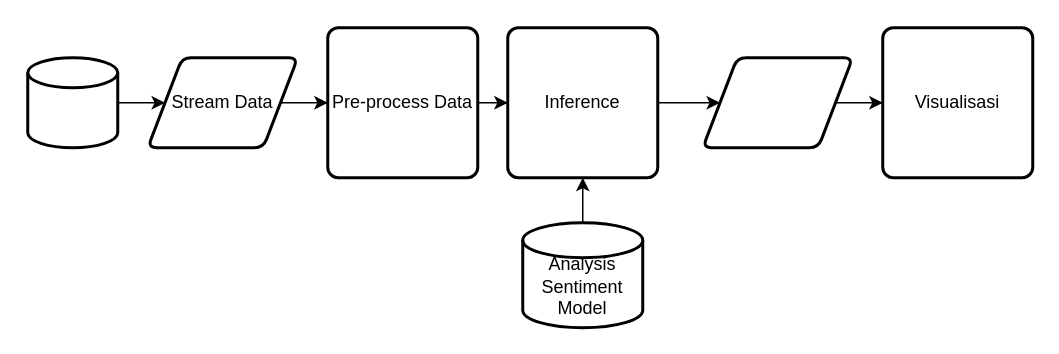
The diagram is 1059 pixels wide and 354 high, and some of its shapes have lost their labels. Each missing label, with the centre of its shape:
"Sentiment" goes at pixel 777 102.
"Youtube API" goes at pixel 72 102.
